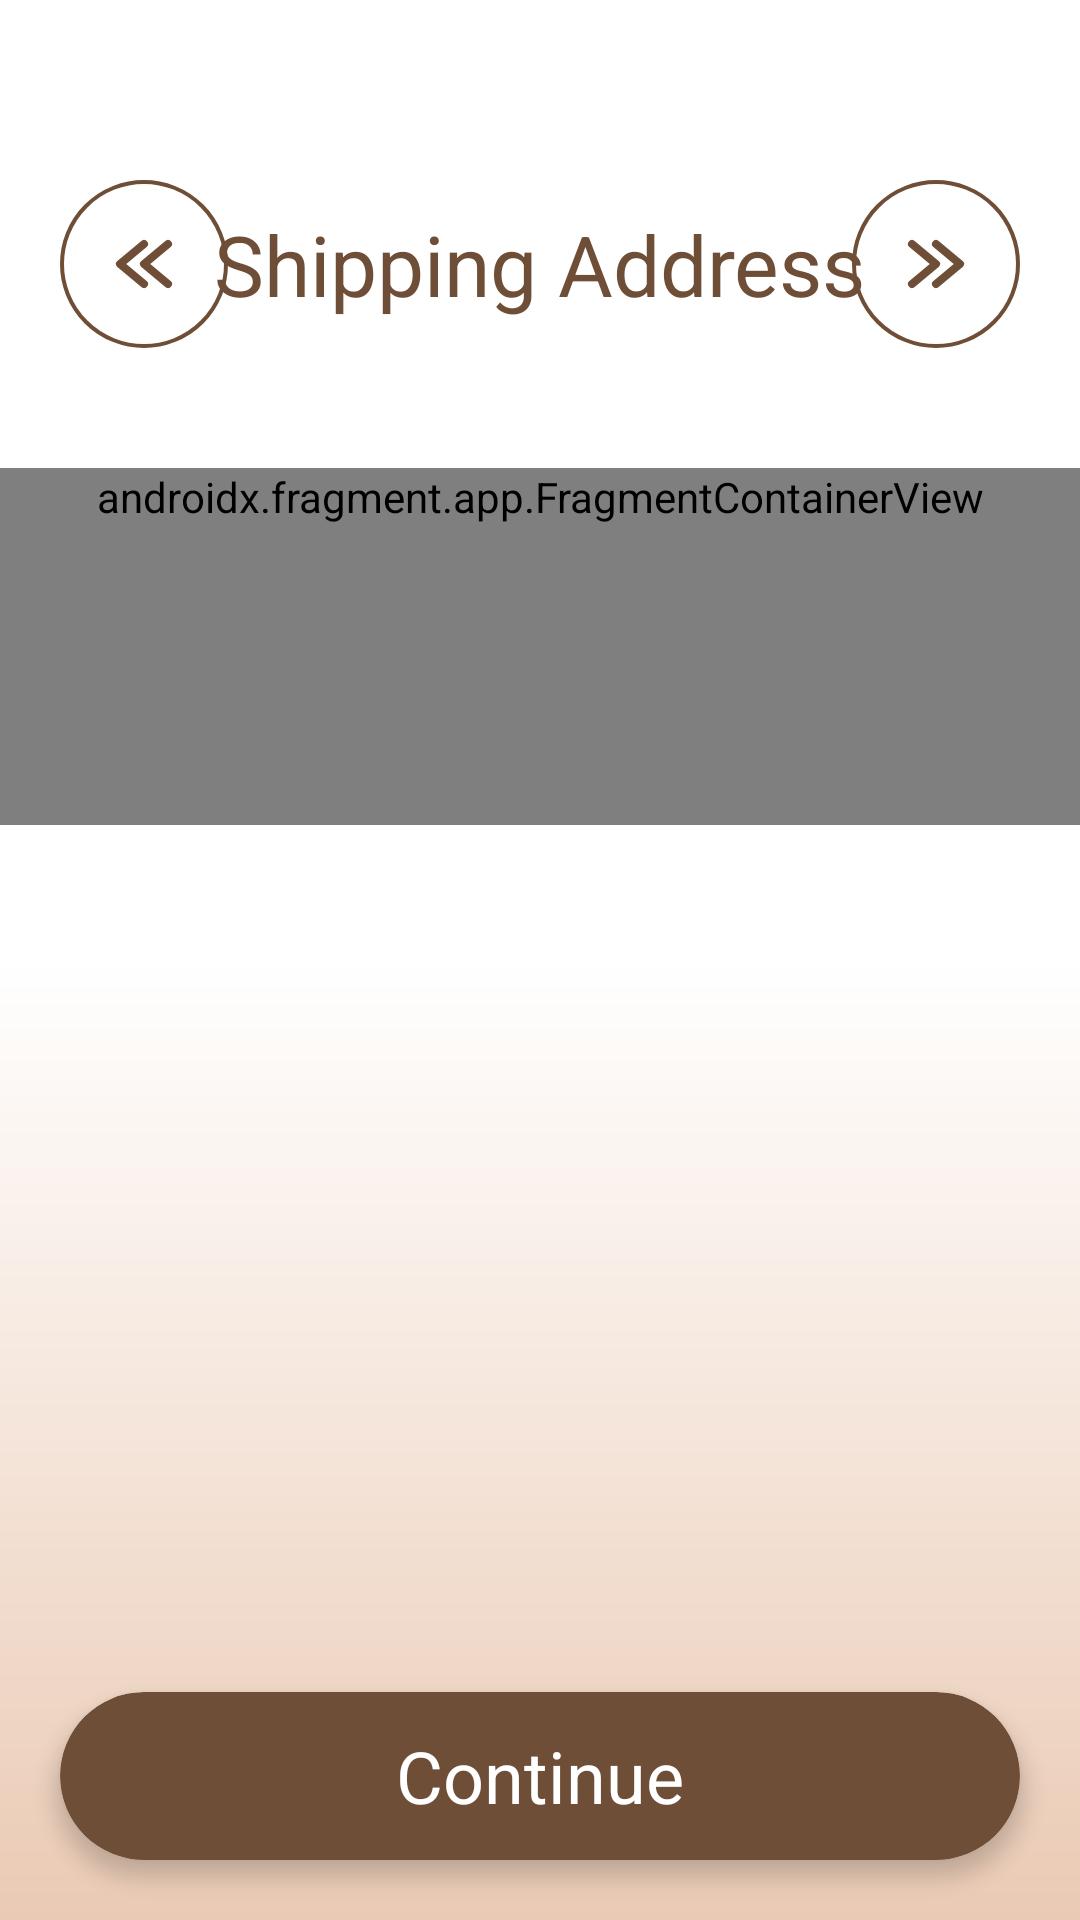

Icon click points for this 1080×1920 phone screenshot, format (x=x, y=y):
back: (x=144, y=264)
forward: (x=936, y=264)
